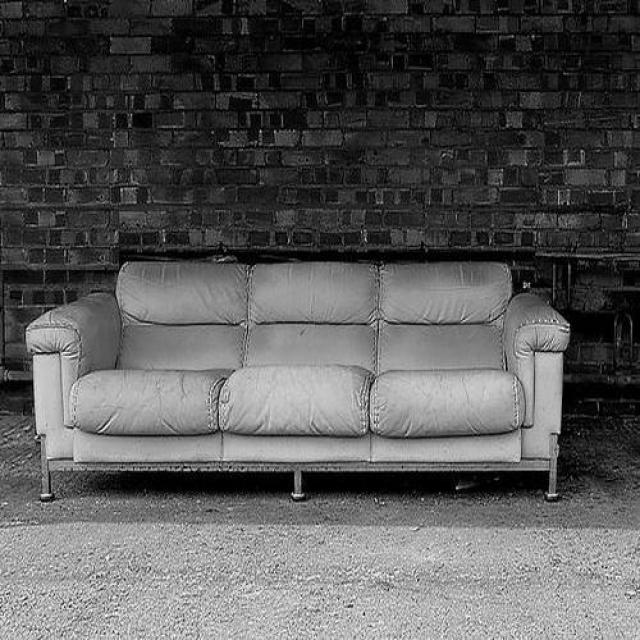sofa: (26, 252, 572, 500)
